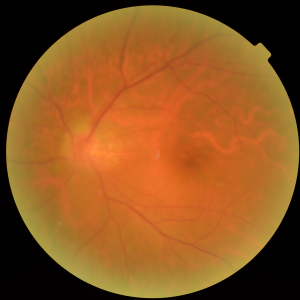retina_disease: (44, 90, 228, 210)
